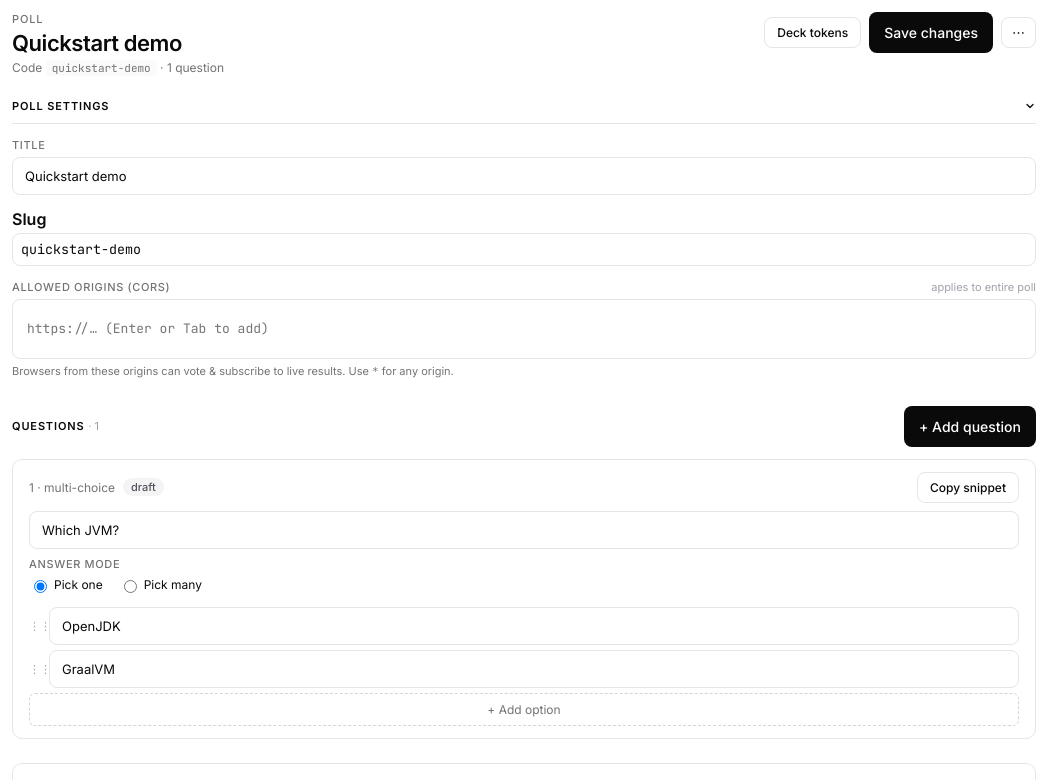
Test case: PollEditorPage — edit mode › copy snippet › showsCopiedConfirmationAfterSuccess
The width and height of the screenshot is (1048, 780).
Click the button with test id "question-copy-snippet": x=968, y=487 x1=917 y1=472 x2=1019 y2=503
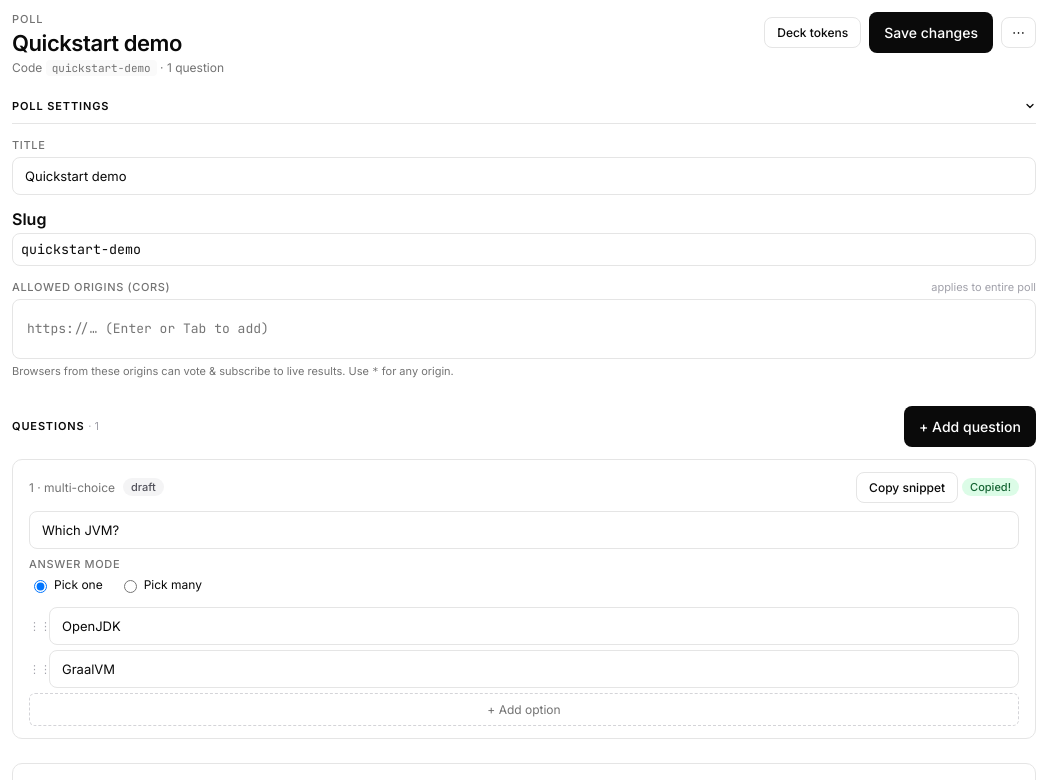
Result: the message "Copied!" is shown at x1=962 y1=478 x2=1019 y2=496
